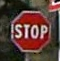stop: (8, 9, 52, 53)
